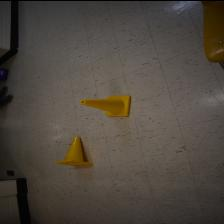cone: (54, 135, 94, 166), (80, 94, 132, 116)
